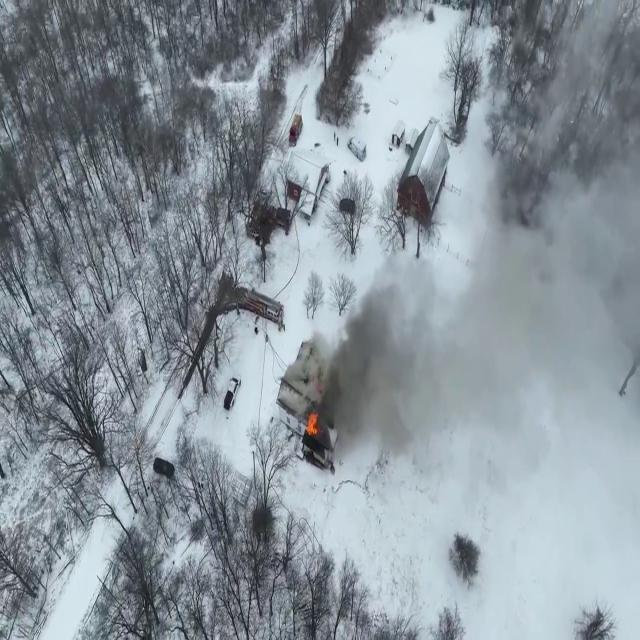Fire: (304, 400, 320, 444)
Smoke: (496, 0, 640, 463), (329, 237, 532, 468)
